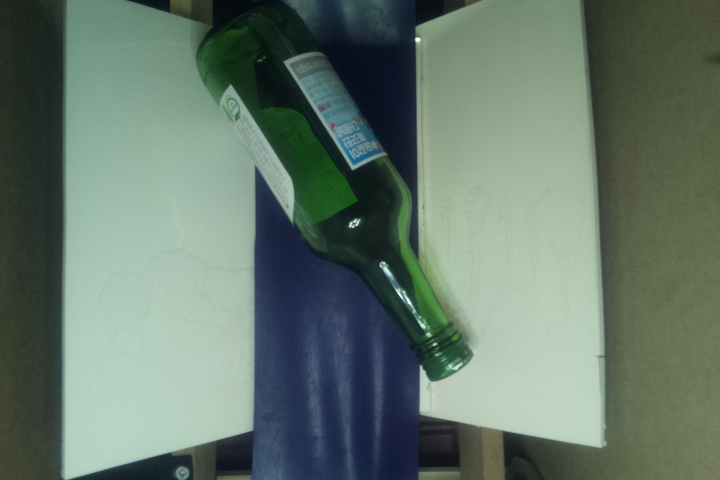soju: (186, 1, 475, 389)
